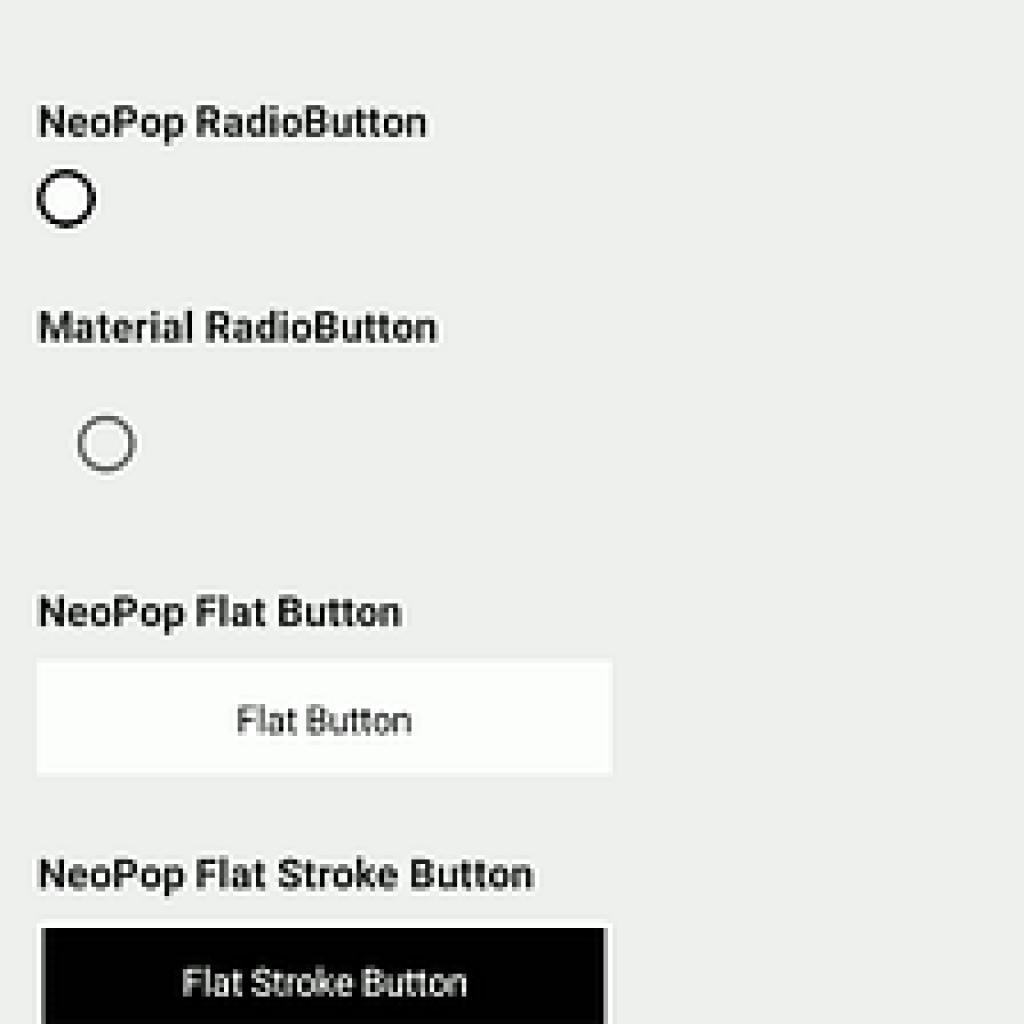button: (36, 653, 614, 774), (44, 925, 607, 1024)
label: (33, 849, 540, 908), (34, 304, 455, 364), (29, 92, 442, 153), (33, 592, 408, 642)
radio: (35, 168, 101, 235), (77, 417, 136, 475)
